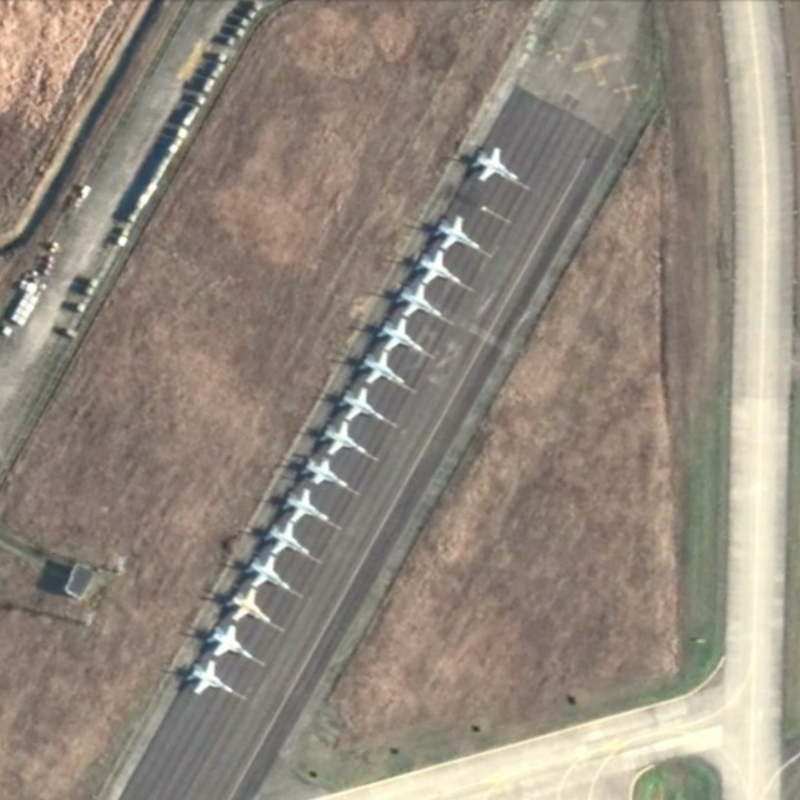A16: (184, 657, 236, 699), (468, 143, 519, 185), (226, 586, 278, 627), (333, 385, 387, 423), (432, 212, 482, 253), (278, 486, 331, 524), (317, 418, 367, 458), (241, 553, 294, 590), (204, 623, 254, 661), (260, 520, 311, 557), (376, 316, 428, 352), (357, 348, 409, 384), (393, 281, 442, 319), (415, 249, 463, 287), (297, 456, 347, 487)
